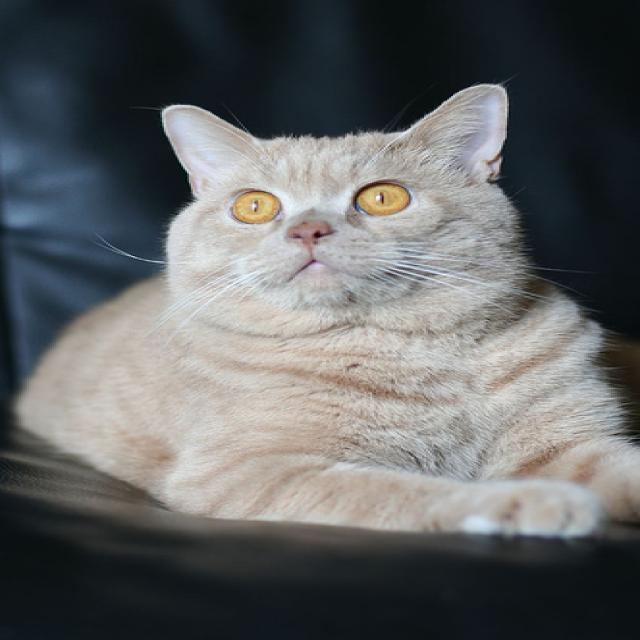cat: (11, 82, 639, 540)
